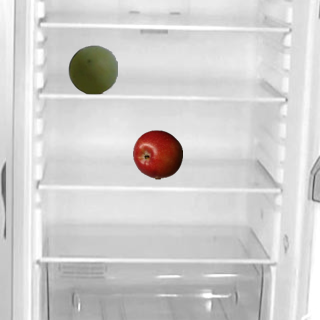Apple Braeburn: (132, 129, 182, 179)
Grape White 4: (67, 44, 117, 94)
